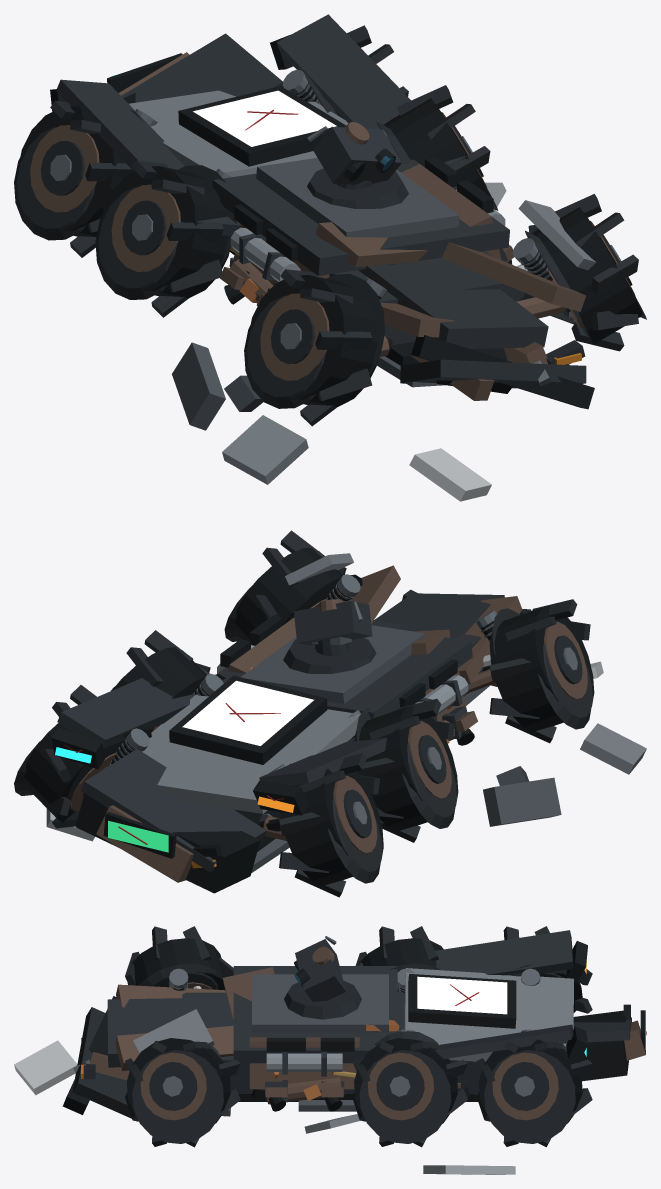
Rendered from r47xs_recon_rover_d3_lod0.glb.
3 renders of one model, top to bottom at view 1: azimuth 30°, elevation 25°; view 2: azimuth 150°, elevation 25°; view 3: azimuth 270°, elevation 25°, orthographic. The views are drawn at different scales.
Visible parts, largest first — view 1: CHASSIS_ARMOR_BODY, ZONE_FRONT_BUMPER, WHEEL_FL, WHEEL_ML, WHEEL_RL, ZONE_FLANK_POS_X, ZONE_FLANK_NEG_X, WHEEL_FR, ZONE_REAR_PANEL, WHEEL_MR, DISPLAY_FDAI_TELEMETRY_PANEL, SENSOR_MAST_HEAD (+8 smaller); view 2: CHASSIS_ARMOR_BODY, ZONE_REAR_PANEL, WHEEL_FL, WHEEL_RL, WHEEL_ML, ZONE_FLANK_POS_X, ZONE_FRONT_BUMPER, ZONE_FLANK_NEG_X, WHEEL_FR, WHEEL_RR, DISPLAY_FDAI_TELEMETRY_PANEL, SENSOR_MAST_HEAD (+7 smaller); view 3: CHASSIS_ARMOR_BODY, ZONE_FRONT_BUMPER, WHEEL_MR, WHEEL_FR, WHEEL_RR, ZONE_FLANK_POS_X, ZONE_FLANK_NEG_X, WHEEL_FL, ZONE_REAR_PANEL, DISPLAY_FDAI_TELEMETRY_PANEL, WHEEL_ML, SENSOR_MAST_HEAD (+7 smaller).
Boxes of the visible parts, x1,y1,x2,y2 form: CHASSIS_ARMOR_BODY: [129, 86, 524, 365]; ZONE_FRONT_BUMPER: [358, 200, 596, 409]; WHEEL_FL: [244, 269, 385, 426]; WHEEL_ML: [95, 160, 236, 317]; WHEEL_RL: [14, 101, 143, 257]; ZONE_FLANK_POS_X: [270, 14, 505, 260]; ZONE_FLANK_NEG_X: [50, 79, 329, 303]; WHEEL_FR: [525, 194, 646, 351]; ZONE_REAR_PANEL: [107, 33, 283, 103]; WHEEL_MR: [376, 85, 498, 210]; DISPLAY_FDAI_TELEMETRY_PANEL: [193, 90, 336, 146]; SENSOR_MAST_HEAD: [307, 122, 401, 189]; CHASSIS_ARMOR_BODY: [143, 620, 483, 851]; ZONE_REAR_PANEL: [75, 749, 289, 893]; WHEEL_FL: [489, 599, 594, 743]; WHEEL_RL: [279, 753, 383, 897]; WHEEL_ML: [354, 698, 458, 842]; ZONE_FLANK_POS_X: [51, 615, 296, 769]; ZONE_FRONT_BUMPER: [285, 553, 531, 705]; ZONE_FLANK_NEG_X: [253, 659, 468, 815]; WHEEL_FR: [224, 530, 362, 641]; WHEEL_RR: [14, 685, 151, 828]; DISPLAY_FDAI_TELEMETRY_PANEL: [182, 680, 313, 745]; SENSOR_MAST_HEAD: [293, 599, 372, 656]; CHASSIS_ARMOR_BODY: [182, 966, 573, 1111]; ZONE_FRONT_BUMPER: [62, 984, 233, 1118]; WHEEL_MR: [352, 1031, 467, 1147]; WHEEL_FR: [125, 1038, 240, 1147]; WHEEL_RR: [477, 1031, 592, 1147]; ZONE_FLANK_POS_X: [249, 1024, 587, 1104]; ZONE_FLANK_NEG_X: [360, 930, 587, 992]; WHEEL_FL: [125, 926, 233, 989]; ZONE_REAR_PANEL: [474, 1004, 645, 1094]; DISPLAY_FDAI_TELEMETRY_PANEL: [417, 976, 507, 1014]; WHEEL_ML: [355, 926, 443, 972]; SENSOR_MAST_HEAD: [294, 936, 345, 1001].
Size of the model in its own units: 3.35 by 1.59 by 5.18.
